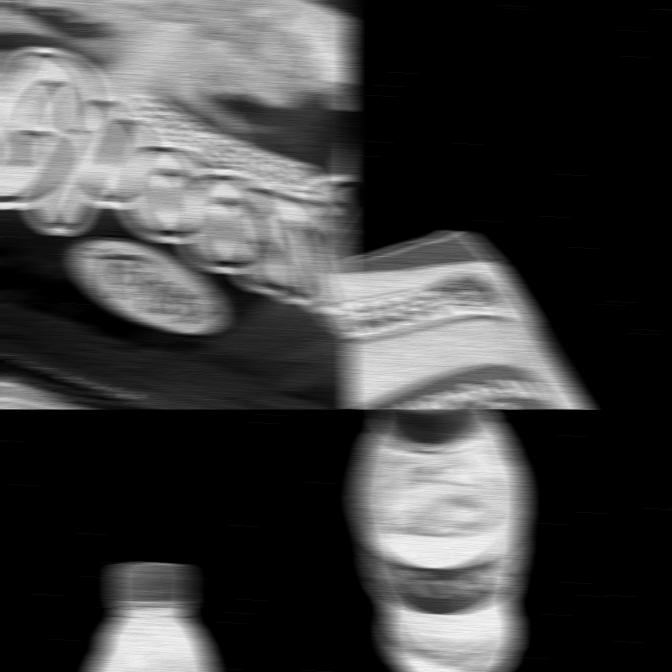cheezy: (0, 0, 353, 409)
mang tomas: (345, 230, 590, 409)
sprite: (352, 409, 527, 672), (88, 561, 215, 672)
